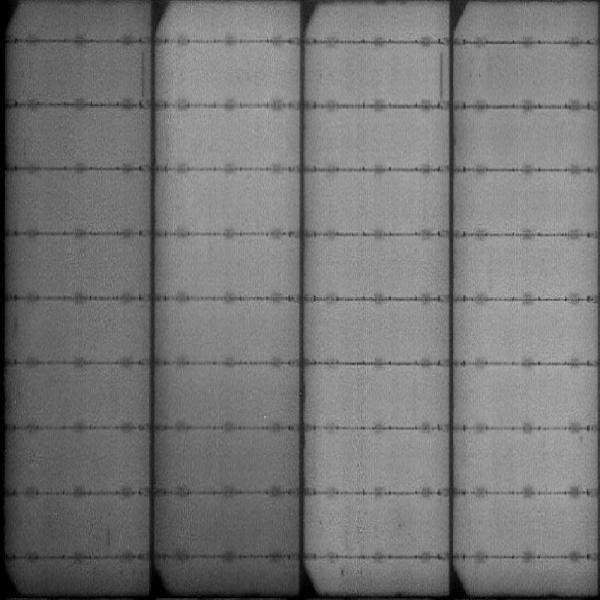scratch: (436, 49, 447, 99), (137, 52, 148, 102)
